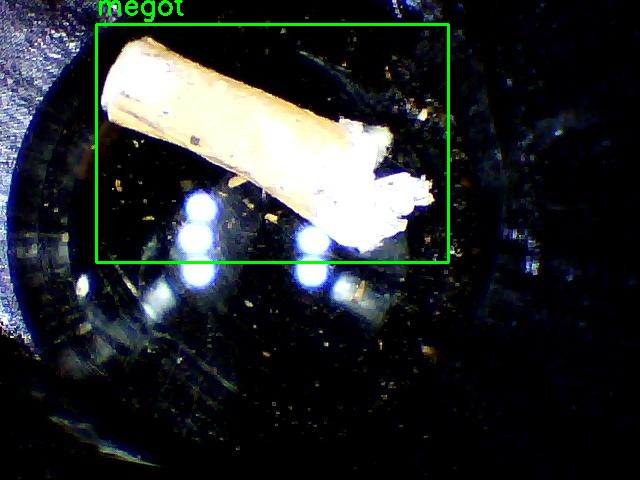megot: (96, 24, 448, 262)
